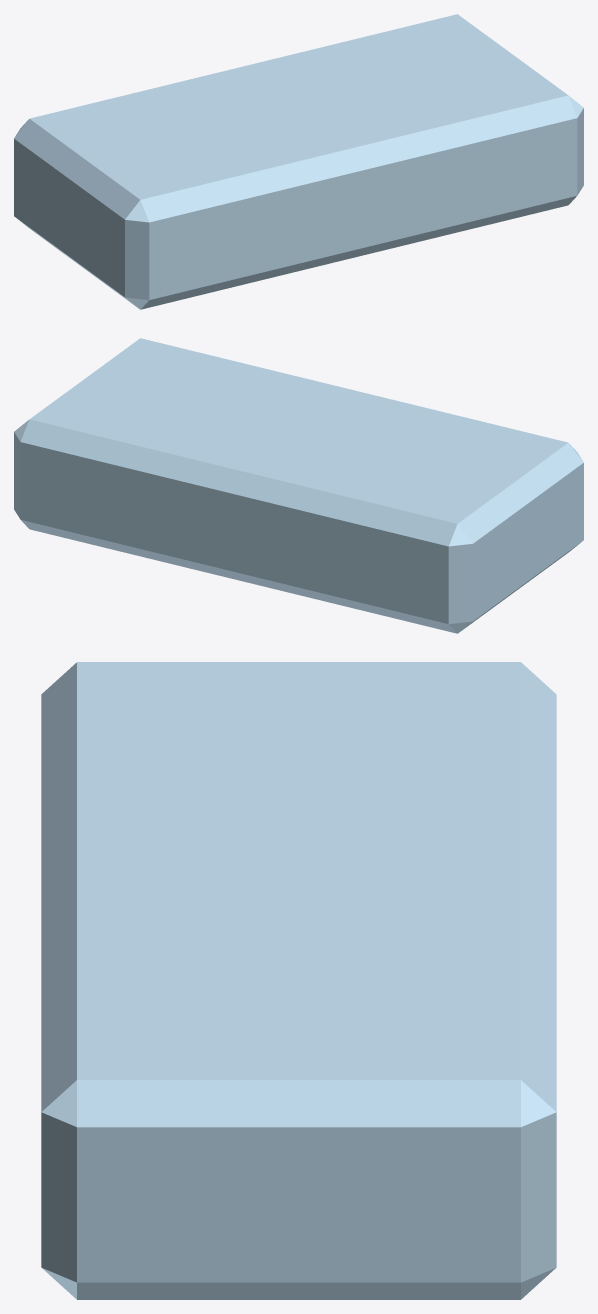
File: R4B_Plate1x2.glb
3 renders of one model, top to bottom at view 1: azimuth 30°, elevation 25°; view 2: azimuth 150°, elevation 25°; view 3: azimuth 270°, elevation 25°, orthographic. The views are drawn at different scales.
Visible parts, largest first — view 1: R4B_Plate1x2; view 2: R4B_Plate1x2; view 3: R4B_Plate1x2.
Boxes of the visible parts, x1=… form: R4B_Plate1x2: x1=14, y1=14, x2=583, y2=309; R4B_Plate1x2: x1=14, y1=338, x2=583, y2=633; R4B_Plate1x2: x1=41, y1=662, x2=556, y2=1299.
Size of the model in its own units: 1.07 by 0.245 by 0.52.
